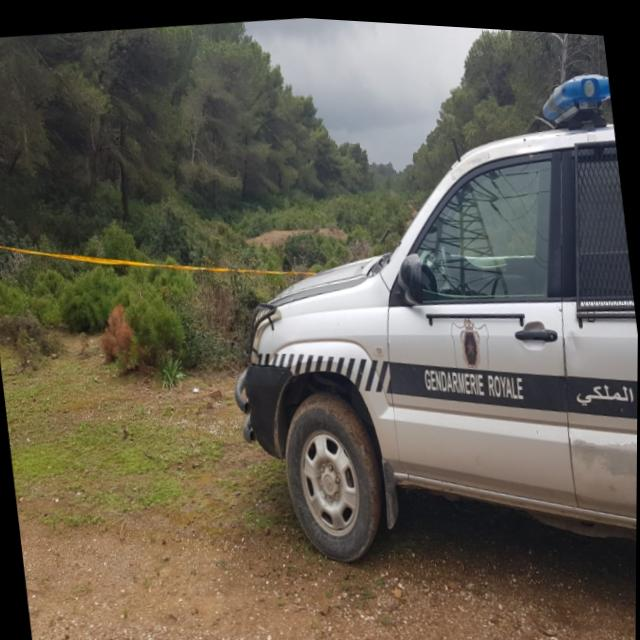gendarme car: (194, 34, 632, 606)
